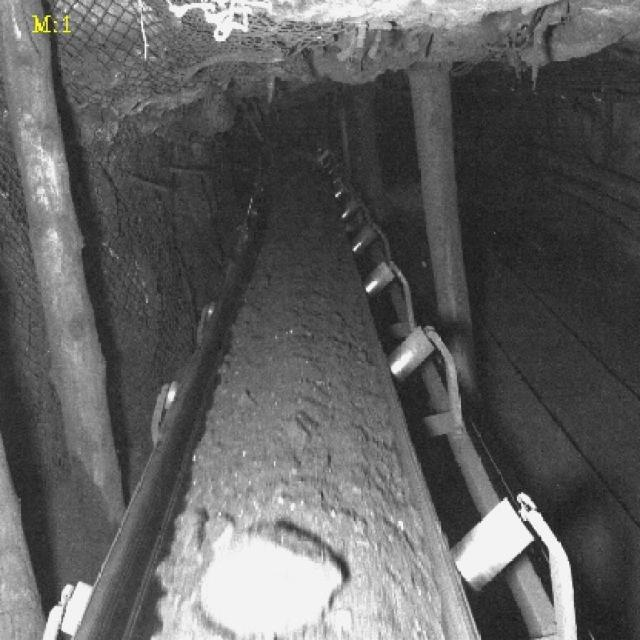large_sized_coal: (197, 524, 343, 640)
